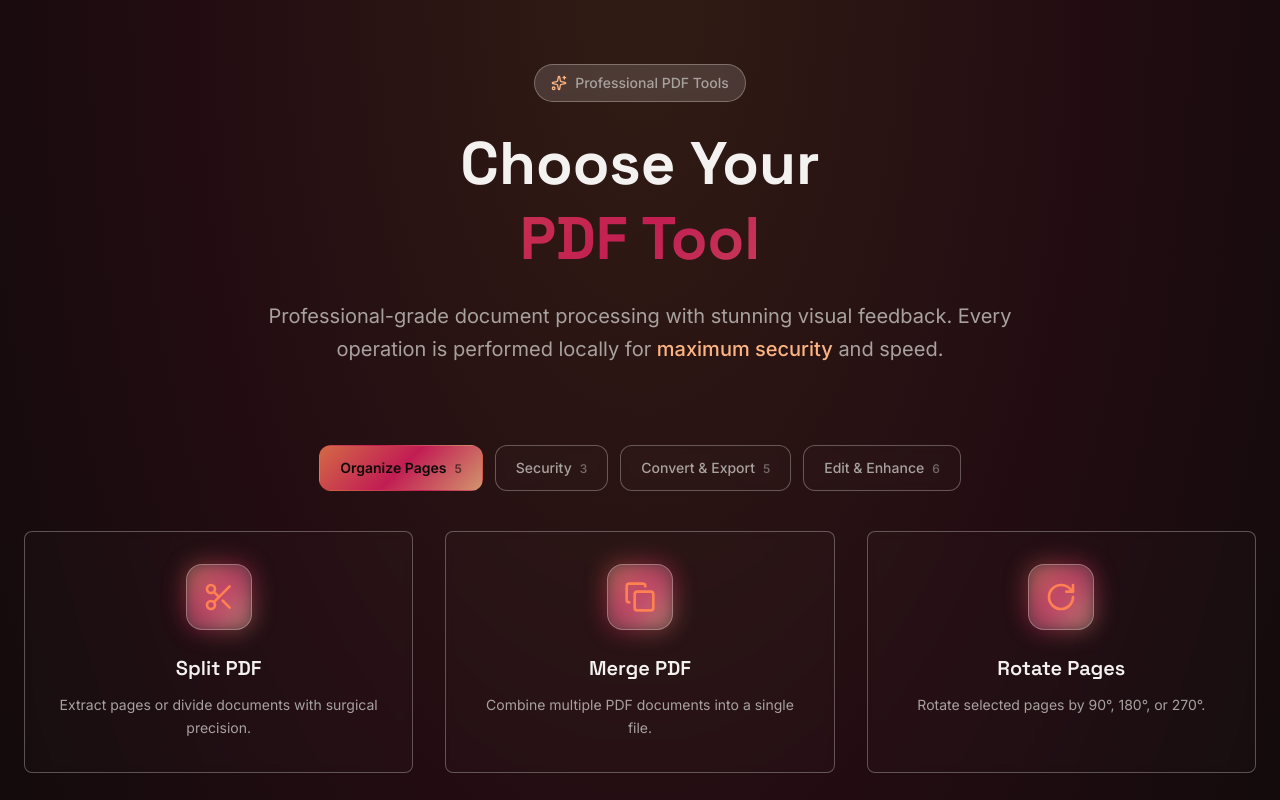
Test: GlassDashboard (T-11 / P2-23 / F-23) › resets previous tool state when switching tools
The image size is (1280, 800).
Click the button "Split PDF".
click(219, 597)  # box 24,531 -> 413,772
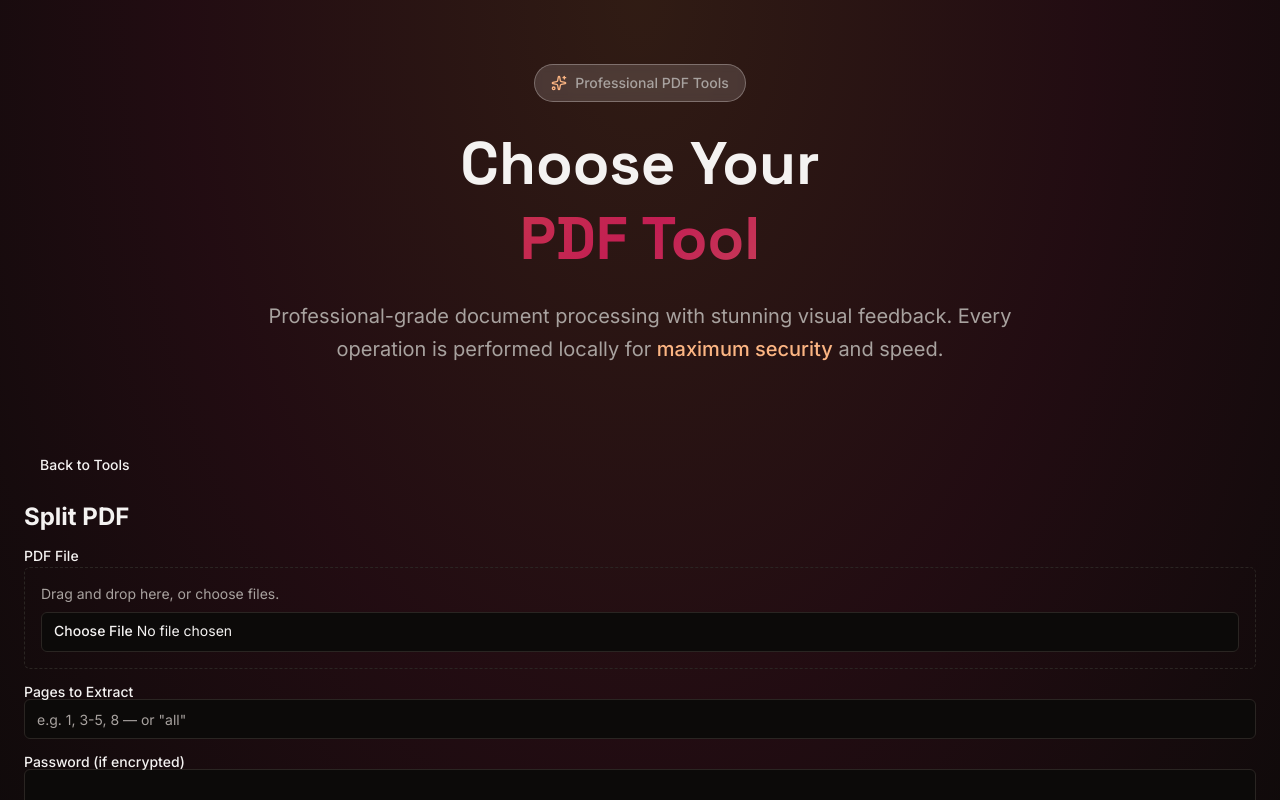
Type "1-2" into the field labelled "Pages to Extract".
click(640, 719); type("1-2")  # box 24,699 -> 1256,739
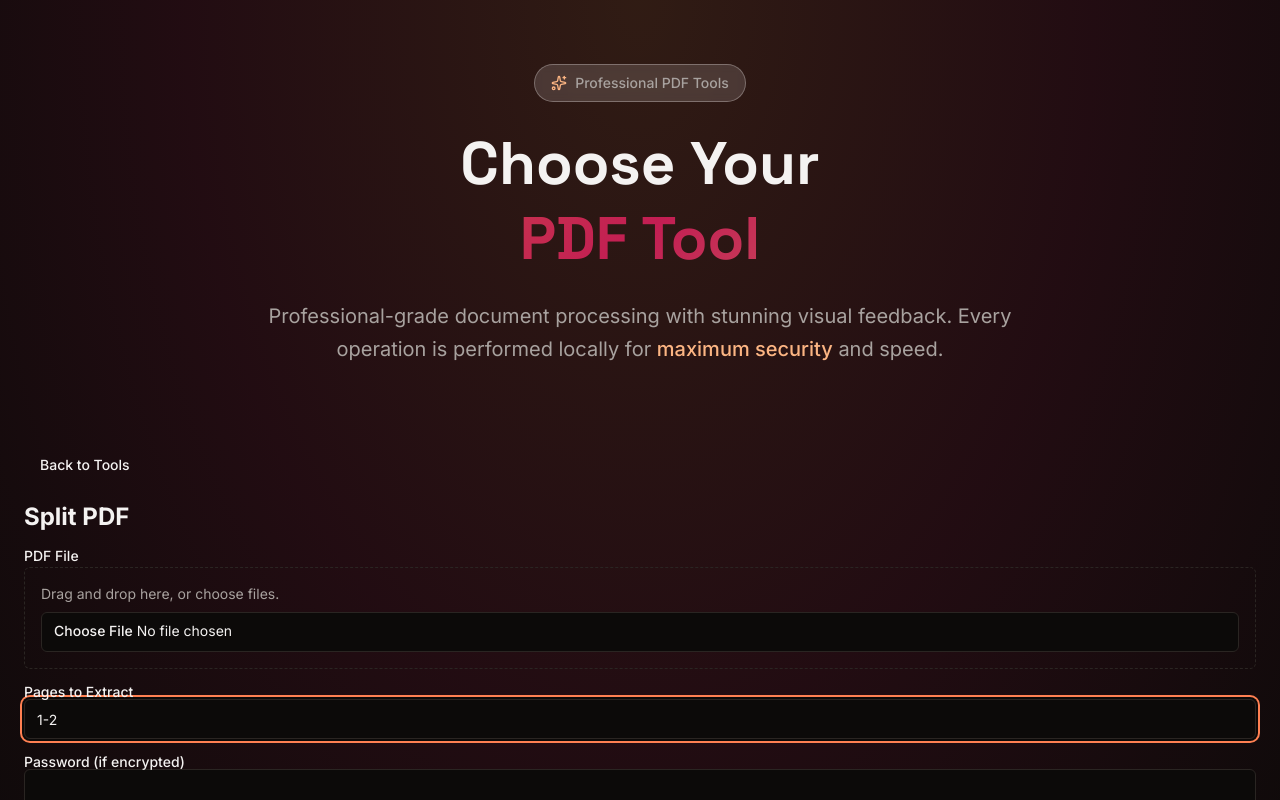
Click the button "Back to Tools".
click(85, 465)  # box 24,445 -> 146,485
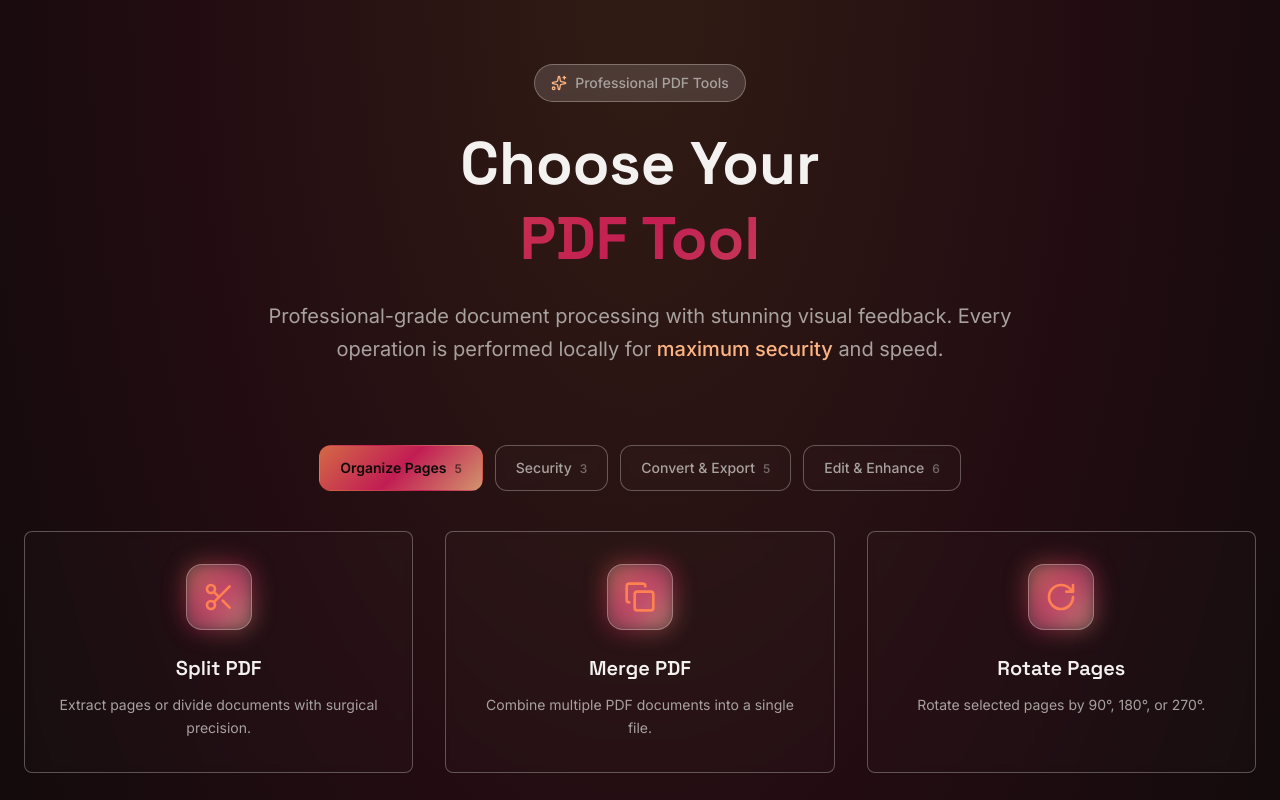
Click the button "Merge PDF".
click(640, 597)  # box 445,531 -> 835,772
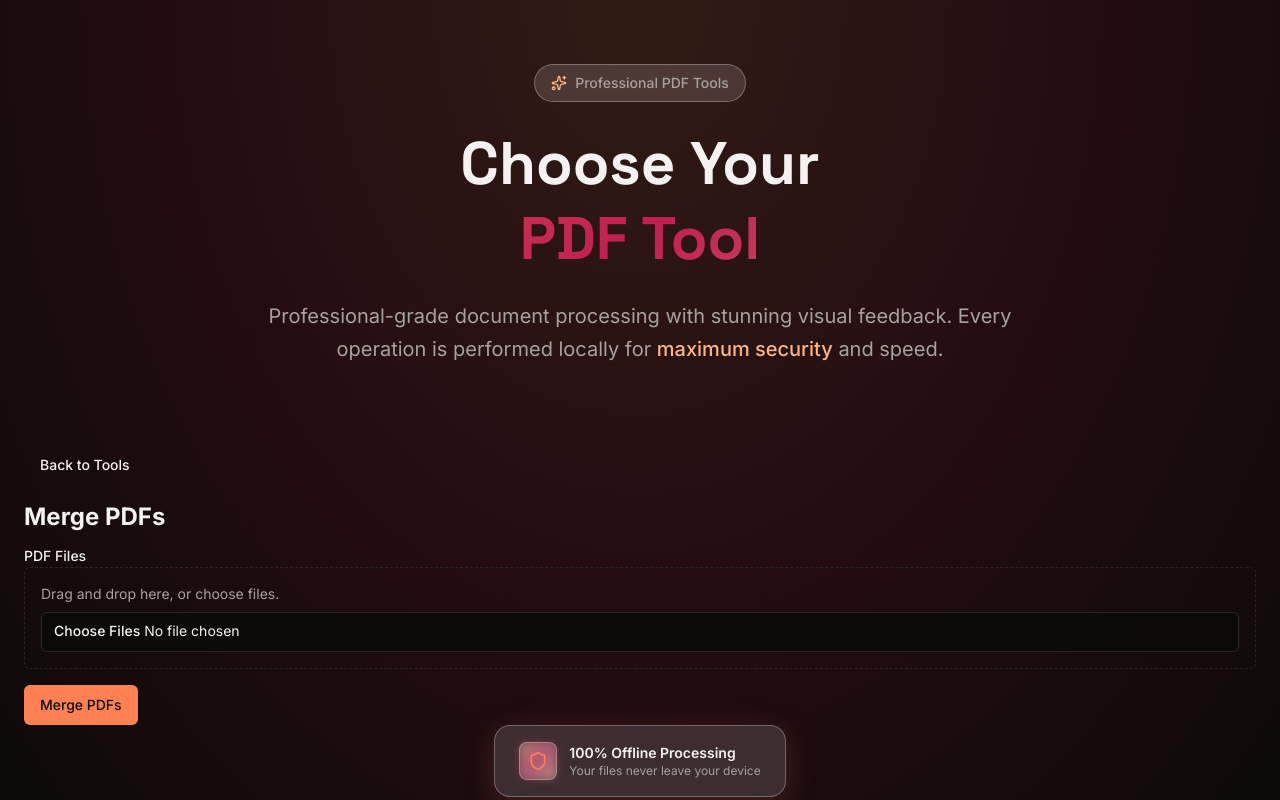
Expected: the heading "Merge PDFs" is shown, 24,502 -> 165,531
Click the button "Back to Tools".
click(85, 465)  # box 24,445 -> 146,485
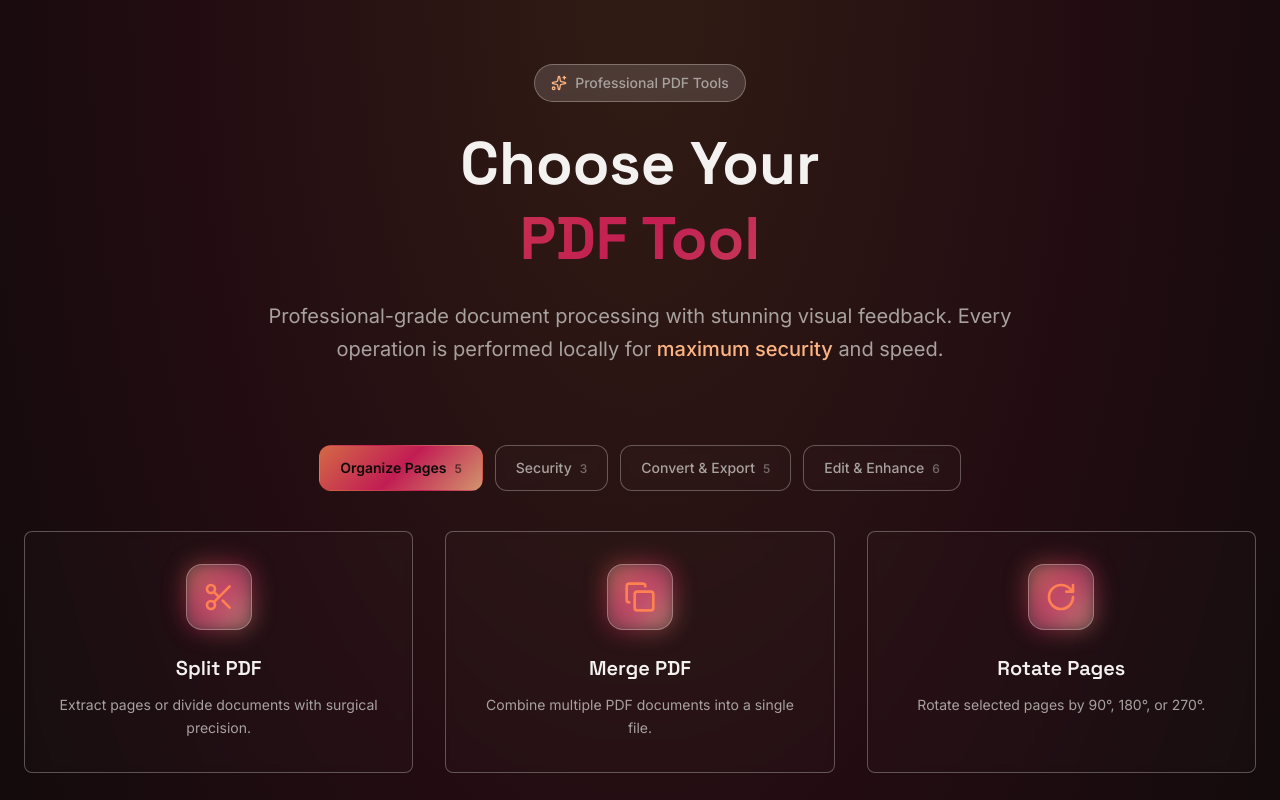
Click the button "Split PDF".
click(219, 597)  # box 24,531 -> 413,772
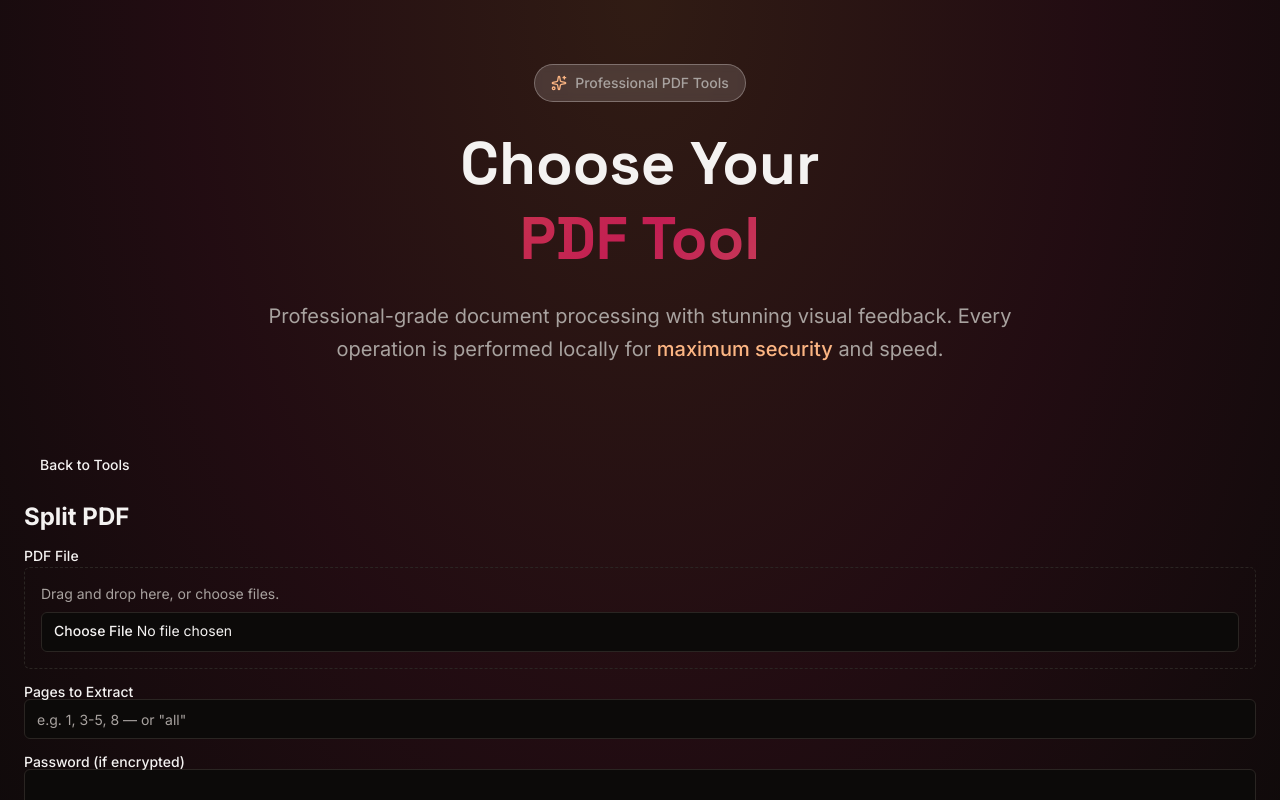
Expected: the field labelled "Pages to Extract" is empty, 24,699 -> 1256,739
